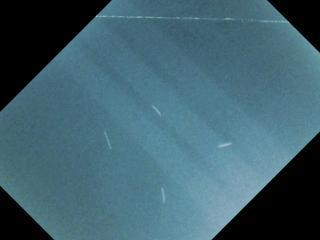crack: (96, 11, 292, 25)
scratch: (98, 127, 118, 154), (213, 135, 236, 154), (156, 183, 172, 209), (148, 100, 166, 121)
